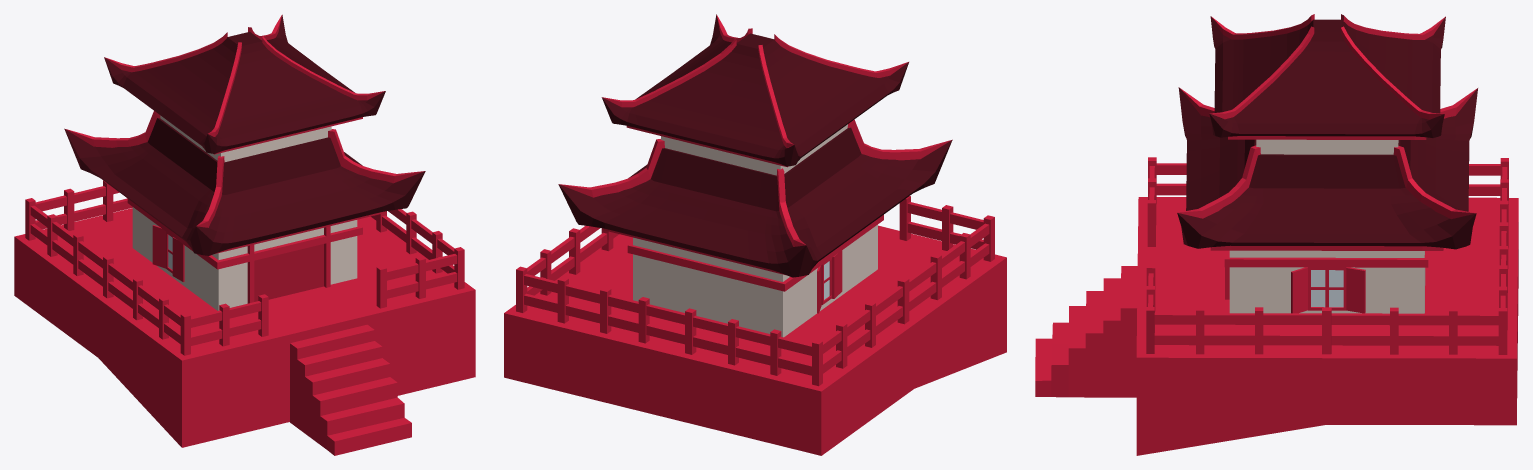
File: casa_grande.gltf
3 views of the same model, side by side, from view 1: azimuth 30°, elevation 25°; view 2: azimuth 150°, elevation 25°; view 3: azimuth 270°, elevation 25° (orthographic). The views are drawn at different scales.
Visible parts, largest first — view 1: Casa_Vermelho.001; view 2: Casa_Vermelho.001; view 3: Casa_Vermelho.001.
Part boxes in pixels (x1,y1,x2,y2): Casa_Vermelho.001: (14, 14, 475, 455); Casa_Vermelho.001: (504, 14, 1006, 455); Casa_Vermelho.001: (1035, 14, 1518, 455).
Size of the model in its own units: 1.98 by 2.03 by 2.5.
